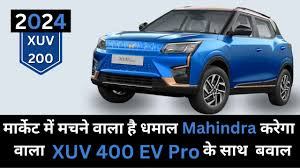XUV 400: (89, 4, 293, 114)
